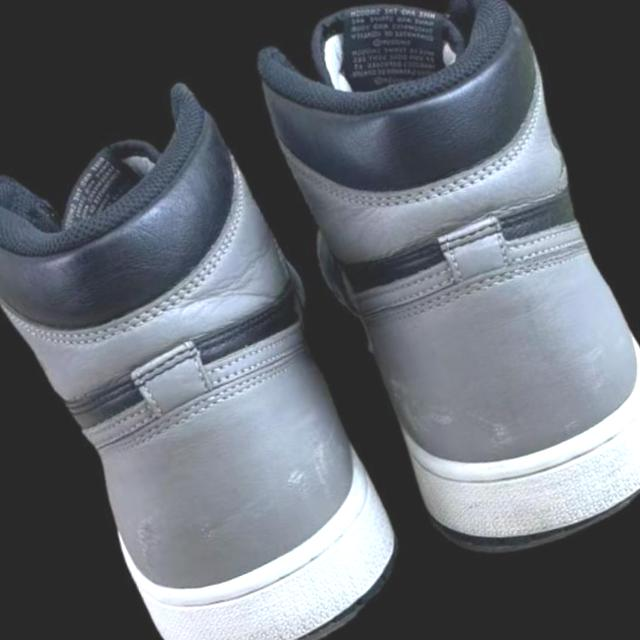nike_original_jordan: (216, 0, 640, 606), (0, 45, 430, 640)
